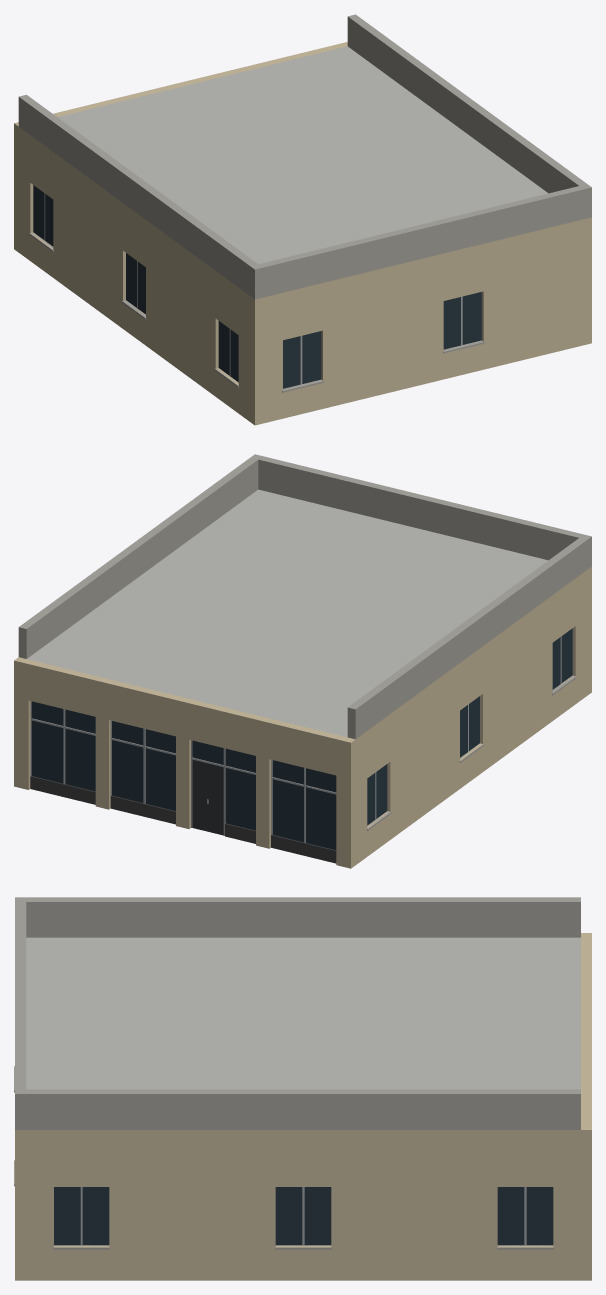
File: bld_t1_shop.glb
The picture shows the model from 3 angles, top to bottom: view 1: azimuth 30°, elevation 25°; view 2: azimuth 150°, elevation 25°; view 3: azimuth 270°, elevation 25°; orthographic projection. The views are drawn at different scales.
Visible parts, largest first — view 1: bld_t1_shop-col; view 2: bld_t1_shop-col; view 3: bld_t1_shop-col.
Boxes of the visible parts, box(x1,y1,x2,y2) form: bld_t1_shop-col: box(14, 14, 591, 425); bld_t1_shop-col: box(14, 454, 591, 868); bld_t1_shop-col: box(14, 897, 591, 1280).
Bounding box in the file's own units: 12.66 × 5.57 × 15.63.
